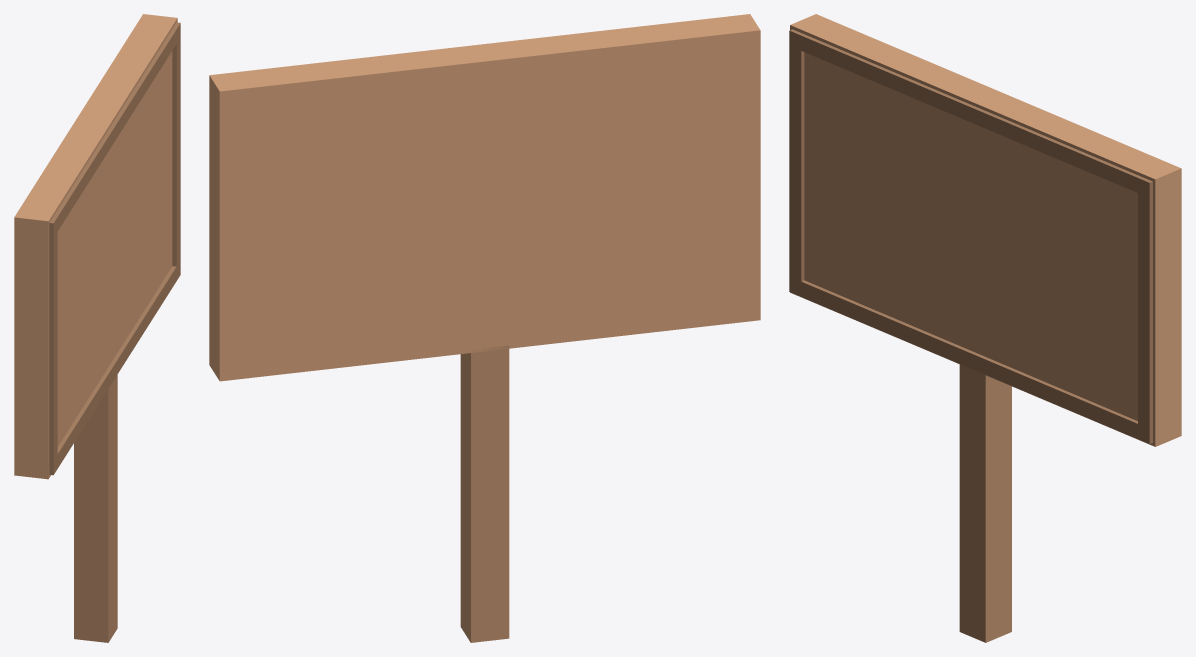
File: sign_acacia_diag.gltf
The picture shows the model from 3 angles, left to right: view 1: azimuth 30°, elevation 25°; view 2: azimuth 150°, elevation 25°; view 3: azimuth 270°, elevation 25°; orthographic projection. The views are drawn at different scales.
Visible parts, largest first — view 1: sign_acacia_diag; view 2: sign_acacia_diag; view 3: sign_acacia_diag.
Part boxes in pixels (x1=…): sign_acacia_diag: x1=14, y1=14, x2=180, y2=642; sign_acacia_diag: x1=209, y1=14, x2=760, y2=642; sign_acacia_diag: x1=789, y1=14, x2=1181, y2=642.
Size of the model in its own units: 0.664 by 1 by 0.664.
